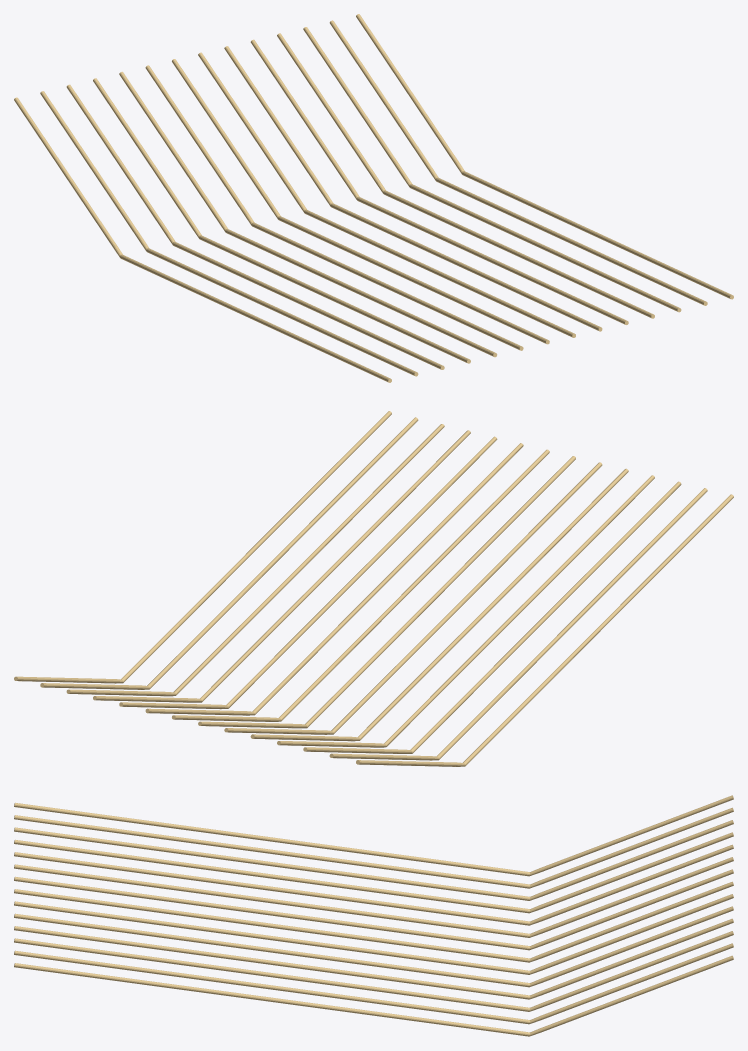
Rendered from jenny_string.glb.
3 views of the same model, one above another, from view 1: azimuth 30°, elevation 25°; view 2: azimuth 150°, elevation 25°; view 3: azimuth 270°, elevation 25° (orthographic). The views are drawn at different scales.
Visible parts, largest first — view 1: Cylinder.131; view 2: Cylinder.131; view 3: Cylinder.131.
Part boxes in pixels (x1=…): Cylinder.131: x1=14, y1=14, x2=733, y2=382; Cylinder.131: x1=14, y1=411, x2=733, y2=766; Cylinder.131: x1=14, y1=795, x2=733, y2=1036.
Bounding box in the file's own units: 1.28 × 0.2966 × 2.4.
